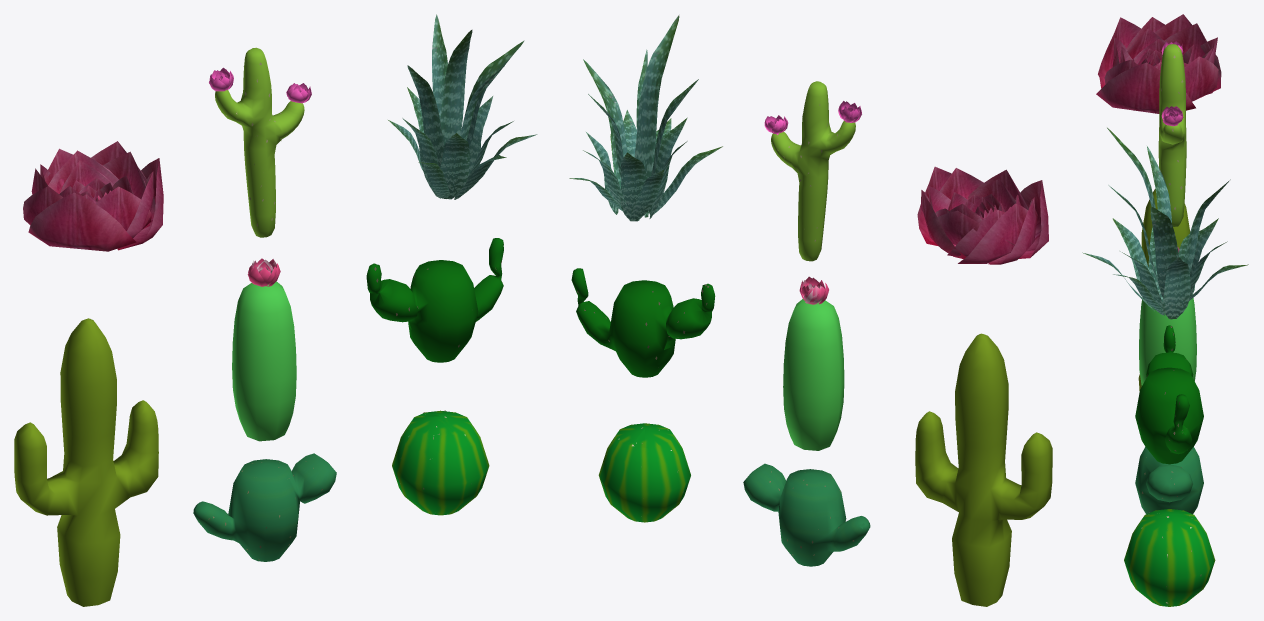
The model's file is Deser_Flowers.fbx.
3 views of the same model, side by side, from view 1: azimuth 30°, elevation 25°; view 2: azimuth 150°, elevation 25°; view 3: azimuth 270°, elevation 25° (orthographic). The views are drawn at different scales.
Parts seen in each view (by area): view 1: kaktus_01, desert_flower, desert_plant, kak_05, kak_04, kaktus_03, kaktus_02, kaktus_06; view 2: kaktus_01, desert_flower, desert_plant, kak_05, kak_04, kaktus_03, kaktus_02, kaktus_06; view 3: desert_flower, desert_plant, kaktus_02, kak_04, kaktus_06, kaktus_03, kak_05, kaktus_01.
Boxes of the visible parts, x1,y1,x2,y2 form: kaktus_01: (14, 318, 158, 606); desert_flower: (23, 141, 163, 251); desert_plant: (388, 14, 537, 199); kak_05: (232, 258, 296, 441); kak_04: (366, 238, 503, 362); kaktus_03: (193, 453, 336, 561); kaktus_02: (392, 410, 489, 515); kaktus_06: (209, 47, 311, 237); kaktus_01: (915, 333, 1052, 606); desert_flower: (917, 166, 1048, 264); desert_plant: (569, 14, 722, 221); kak_05: (783, 276, 844, 450); kak_04: (571, 268, 715, 377); kaktus_03: (743, 463, 870, 566); kaktus_02: (598, 423, 690, 522); kaktus_06: (764, 81, 861, 261); desert_flower: (1096, 14, 1221, 113); desert_plant: (1082, 127, 1248, 319); kaktus_02: (1124, 509, 1215, 606); kak_04: (1135, 325, 1203, 464); kaktus_06: (1158, 41, 1186, 226); kaktus_03: (1135, 447, 1203, 513); kak_05: (1139, 247, 1196, 386); kaktus_01: (1138, 189, 1190, 390).
Size of the model in its own units: 96.73 by 94.48 by 30.17.
